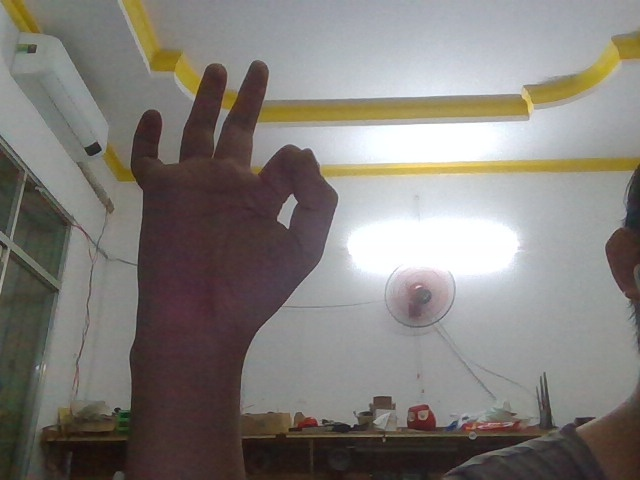okay: (97, 39, 354, 393)
